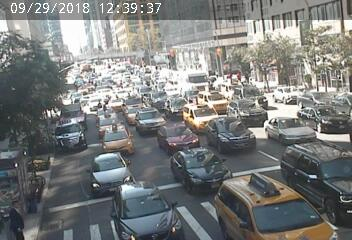car: (223, 180, 312, 232), (287, 145, 352, 203), (116, 186, 181, 232), (174, 153, 229, 185), (208, 119, 255, 150), (91, 157, 133, 185), (301, 107, 346, 133), (157, 126, 197, 150), (155, 67, 191, 92), (101, 128, 141, 150), (269, 120, 307, 143), (230, 102, 269, 122), (197, 90, 233, 111), (185, 106, 219, 128), (134, 113, 169, 134), (185, 73, 214, 91), (234, 86, 265, 101), (122, 99, 146, 118), (275, 87, 298, 104), (166, 99, 191, 114), (150, 95, 173, 109), (96, 113, 119, 127), (137, 86, 156, 97), (113, 88, 132, 99), (87, 98, 104, 109)
